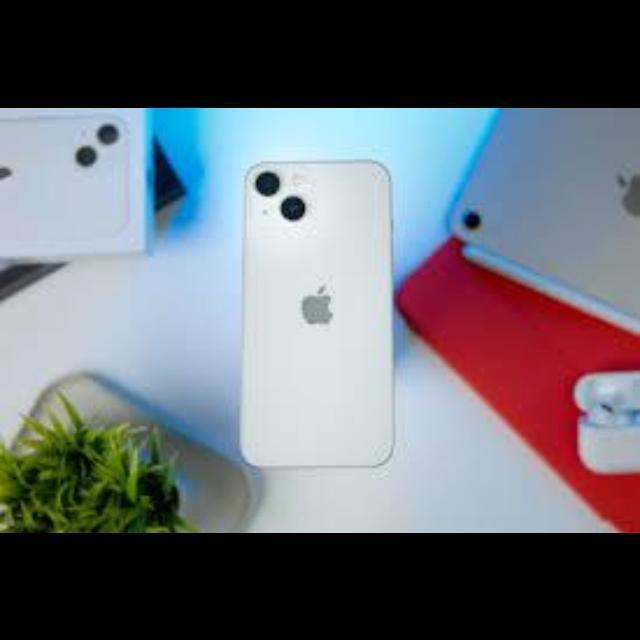phone: (218, 149, 405, 491)
